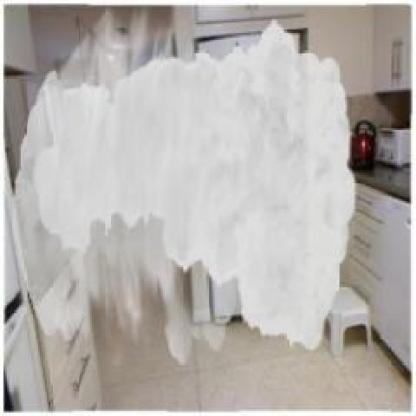Smoke: (13, 3, 356, 364)
